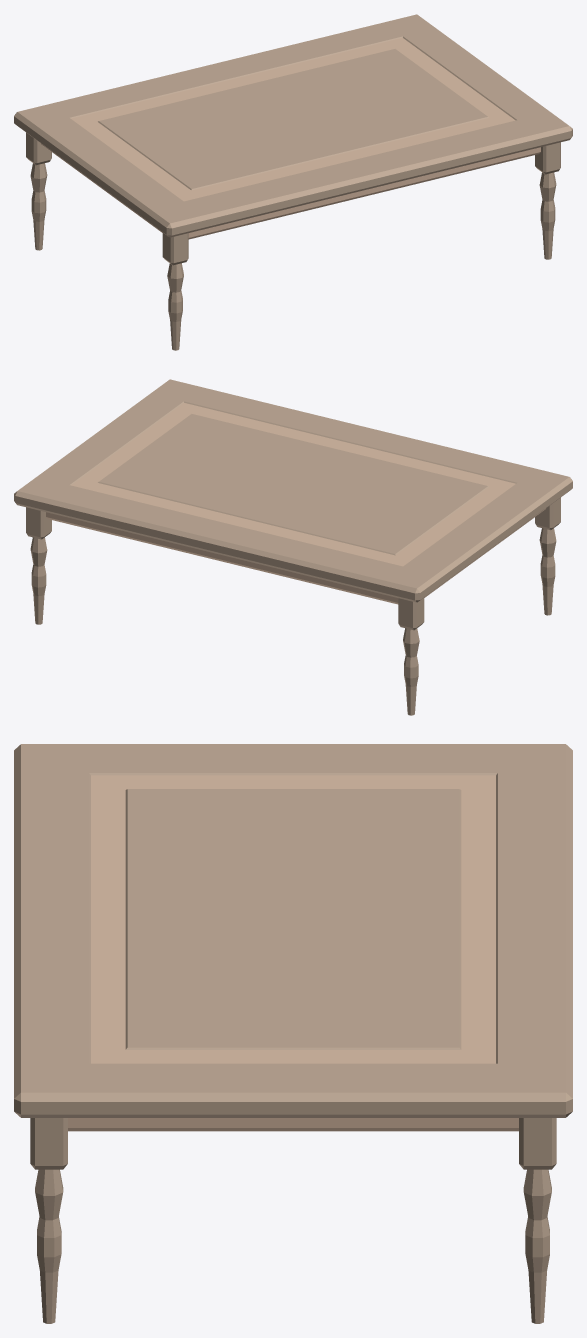
Rendered from Prop_Dining_Room_Table_Rectangle.glb.
3 views of the same model, one above another, from view 1: azimuth 30°, elevation 25°; view 2: azimuth 150°, elevation 25°; view 3: azimuth 270°, elevation 25° (orthographic). The views are drawn at different scales.
Visible parts, largest first — view 1: Prop_Dining_Room_Table_Rectangle; view 2: Prop_Dining_Room_Table_Rectangle; view 3: Prop_Dining_Room_Table_Rectangle.
Boxes of the visible parts, box(x1,y1,x2,y2) form: Prop_Dining_Room_Table_Rectangle: box(14, 14, 572, 350); Prop_Dining_Room_Table_Rectangle: box(14, 379, 572, 715); Prop_Dining_Room_Table_Rectangle: box(14, 744, 572, 1323).
Bounding box in the file's own units: 3 × 0.95 × 2.
